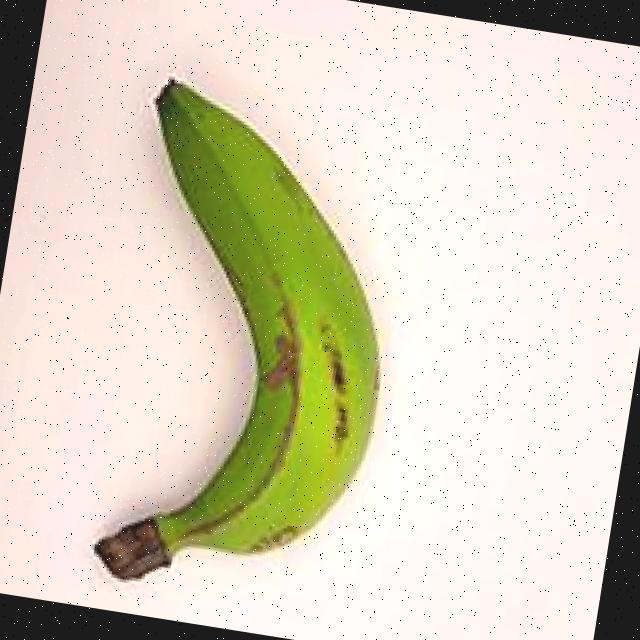Raw: (34, 51, 450, 638)
